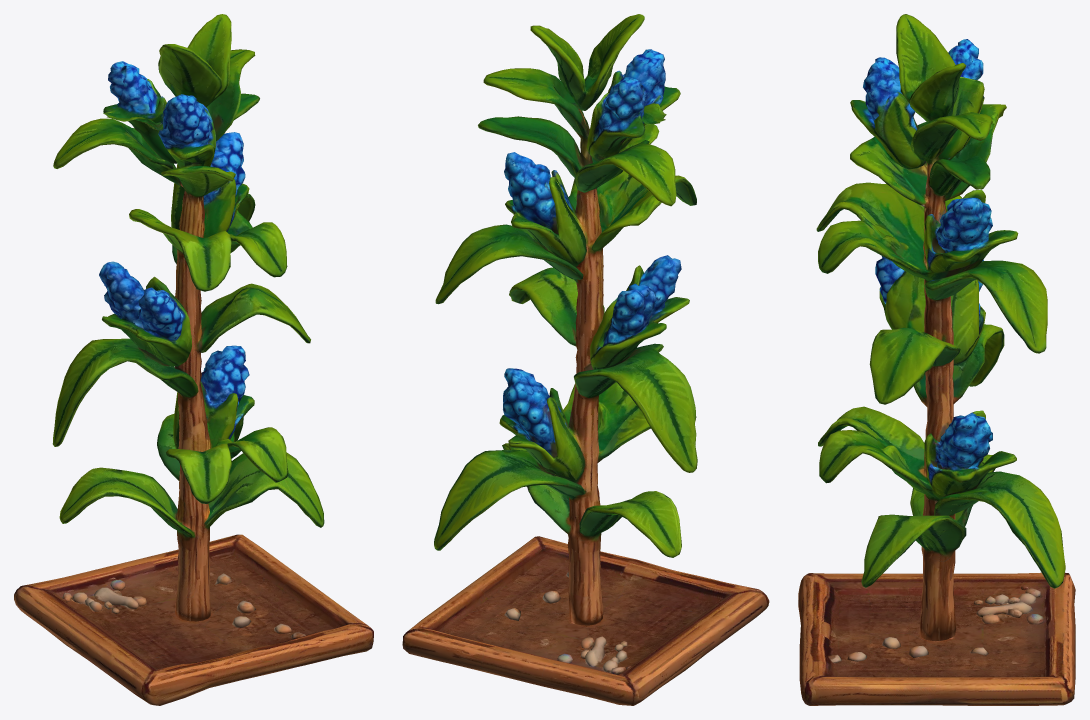
Rendered from blueberry.glb.
3 views of the same model, side by side, from view 1: azimuth 30°, elevation 25°; view 2: azimuth 150°, elevation 25°; view 3: azimuth 270°, elevation 25° (orthographic).
Bounding box in the file's own units: 0.7906 × 1.91 × 0.775.
Materials: 1 (1 with a texture image).
